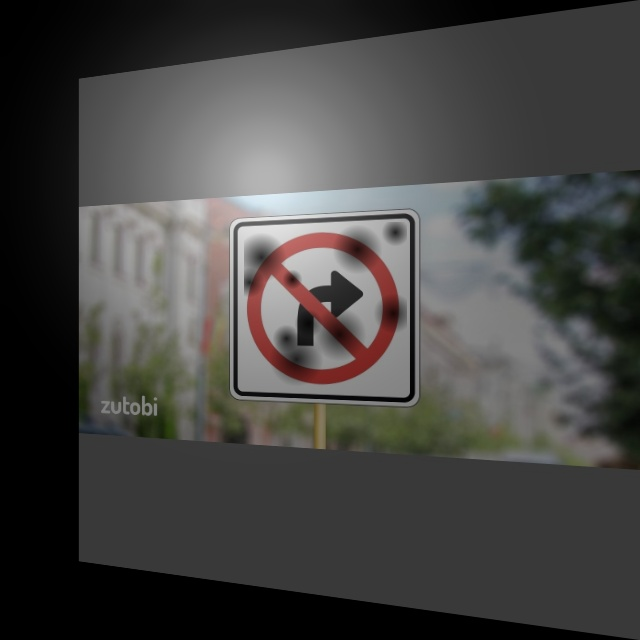Right_Turn_Prohibited: (244, 222, 407, 392)
